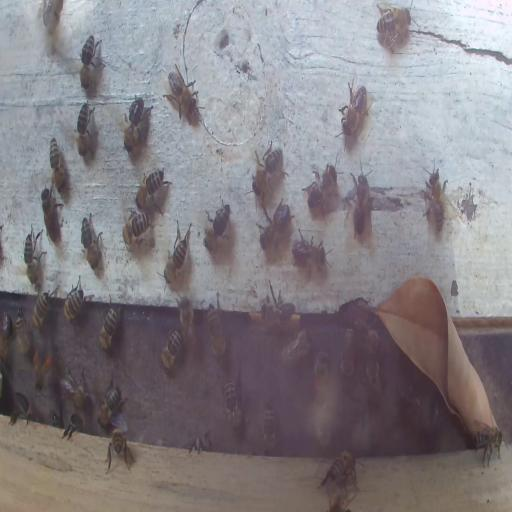nonpollenbee: (337, 77, 374, 143), (163, 64, 201, 124), (251, 141, 286, 203), (316, 451, 366, 492), (162, 218, 192, 286), (202, 196, 232, 260), (293, 229, 329, 282), (375, 4, 416, 50), (344, 166, 370, 238), (422, 161, 447, 235), (136, 166, 172, 214), (257, 200, 290, 252), (74, 98, 98, 166), (473, 421, 506, 469), (261, 292, 297, 336), (96, 377, 127, 428), (122, 94, 146, 158), (79, 33, 105, 92), (301, 164, 332, 213), (23, 222, 46, 288), (62, 274, 92, 324), (350, 313, 384, 357), (40, 182, 63, 245), (363, 356, 387, 416), (80, 213, 103, 273), (60, 366, 91, 410), (281, 326, 312, 369), (98, 296, 122, 351), (398, 382, 427, 426), (121, 210, 153, 248), (208, 294, 226, 358), (259, 400, 280, 454), (106, 427, 132, 470), (222, 376, 242, 431), (48, 136, 66, 194), (160, 326, 181, 375), (340, 326, 356, 381), (31, 291, 53, 329), (177, 296, 194, 343), (16, 308, 30, 357), (62, 413, 84, 439), (0, 310, 10, 364), (314, 351, 330, 382), (14, 393, 30, 417)
pollenbee: (32, 343, 50, 393)
